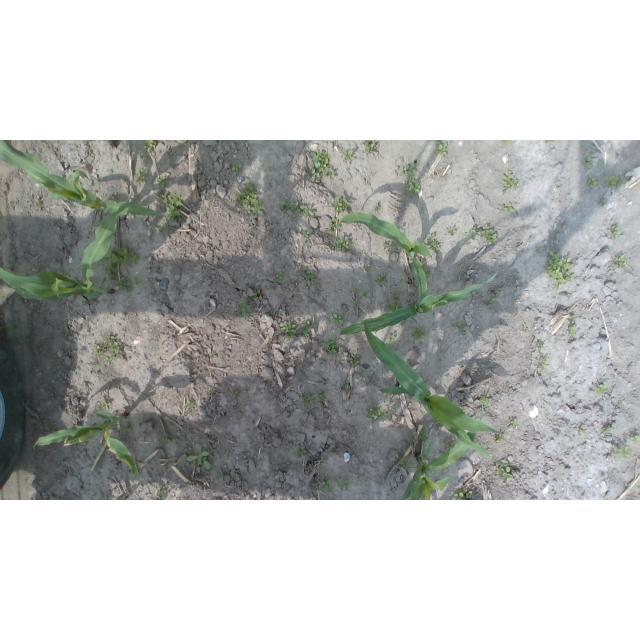Maize: (362, 324, 515, 467), (0, 199, 144, 300), (0, 140, 170, 216), (339, 270, 500, 335), (335, 212, 433, 307), (400, 404, 484, 500), (32, 412, 142, 481)
Weeds: (99, 246, 141, 295), (545, 251, 575, 290), (93, 335, 123, 366), (235, 183, 264, 215), (306, 150, 334, 182), (400, 163, 420, 198), (159, 191, 182, 221), (186, 443, 210, 470), (279, 201, 314, 219), (477, 224, 498, 245), (502, 173, 519, 196), (366, 406, 388, 423), (613, 443, 632, 461), (297, 321, 315, 338), (332, 196, 351, 212), (237, 299, 252, 319), (495, 465, 513, 481), (591, 381, 610, 396), (606, 176, 627, 189), (452, 488, 473, 501), (331, 237, 349, 252), (325, 217, 340, 235), (134, 168, 149, 186), (283, 320, 298, 338), (567, 314, 578, 338), (427, 234, 440, 254), (320, 472, 333, 492), (301, 268, 316, 285), (411, 327, 428, 342), (323, 339, 339, 354), (387, 298, 402, 312), (433, 141, 447, 156), (442, 437, 457, 451), (353, 286, 369, 299), (616, 254, 629, 270), (334, 478, 351, 490), (364, 140, 378, 154), (347, 353, 361, 367), (292, 445, 307, 458), (399, 458, 414, 471), (535, 358, 549, 371), (465, 226, 477, 241), (375, 275, 388, 288), (316, 390, 329, 403), (142, 140, 156, 152), (157, 175, 169, 189), (588, 178, 601, 190), (96, 399, 109, 411), (299, 394, 312, 406), (610, 225, 621, 239), (156, 223, 170, 234), (157, 485, 167, 500), (184, 400, 196, 412), (493, 433, 505, 445), (302, 230, 313, 243), (479, 393, 490, 406), (500, 202, 514, 212), (343, 150, 354, 162), (418, 430, 429, 442), (331, 313, 343, 324), (459, 323, 469, 336), (583, 157, 593, 169), (386, 335, 396, 345), (275, 271, 284, 282), (252, 290, 261, 301), (124, 423, 133, 433), (536, 341, 544, 352), (448, 227, 457, 236), (631, 435, 640, 444), (234, 163, 244, 171), (488, 297, 496, 307), (509, 418, 517, 428), (602, 426, 611, 434), (341, 380, 350, 388), (579, 425, 586, 435), (281, 427, 292, 433), (35, 198, 42, 207), (494, 288, 501, 297), (388, 414, 395, 423), (452, 322, 461, 329), (504, 140, 514, 146), (364, 266, 372, 273), (600, 200, 608, 207), (233, 391, 240, 399), (162, 438, 173, 443), (618, 400, 625, 407), (374, 203, 380, 210), (537, 247, 544, 253), (546, 140, 555, 144), (396, 292, 403, 297), (209, 387, 214, 393), (356, 477, 362, 482), (395, 249, 402, 253), (210, 354, 217, 358), (384, 243, 388, 249), (102, 496, 108, 500), (522, 324, 526, 329), (466, 242, 470, 246), (516, 276, 520, 280), (311, 355, 315, 359)
